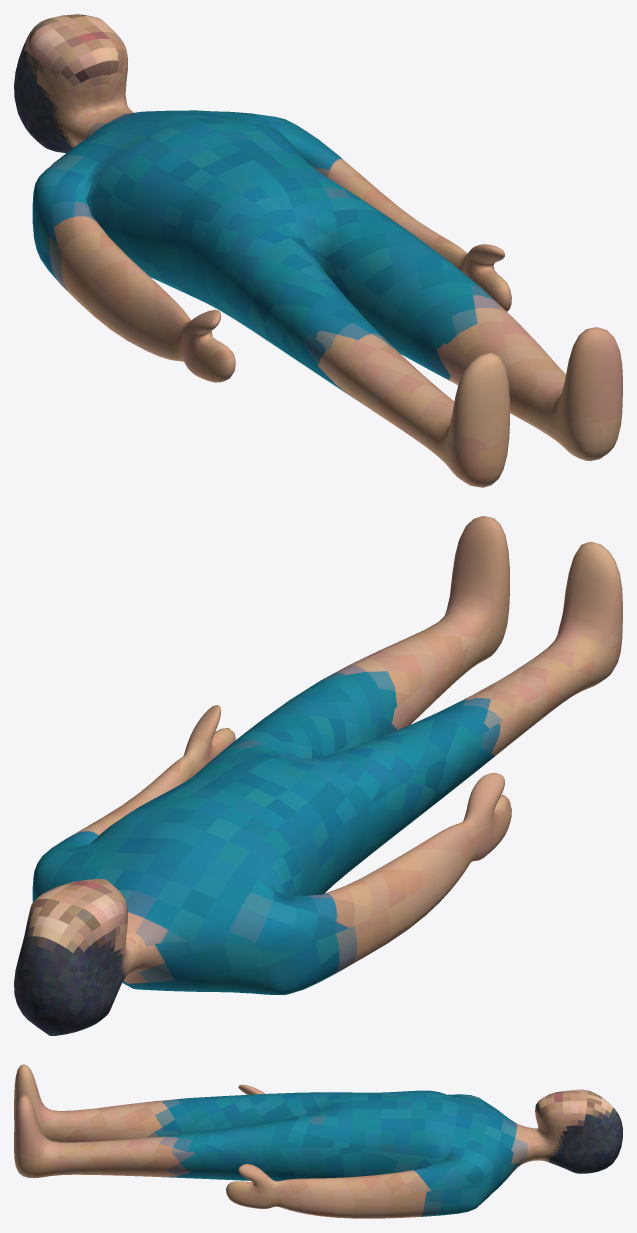
Rendered from Nurse2.glb.
3 renders of one model, top to bottom at view 1: azimuth 30°, elevation 25°; view 2: azimuth 150°, elevation 25°; view 3: azimuth 270°, elevation 25°, orthographic. The views are drawn at different scales.
Visible parts, largest first — view 1: Cube.001; view 2: Cube.001; view 3: Cube.001.
Boxes of the visible parts, x1,y1,x2,y2 form: Cube.001: [14, 14, 622, 487]; Cube.001: [14, 516, 622, 1035]; Cube.001: [14, 1064, 622, 1218].
Bounding box in the file's own units: 2.82 × 1.54 × 8.17.
Materials: 1 (1 with a texture image).
